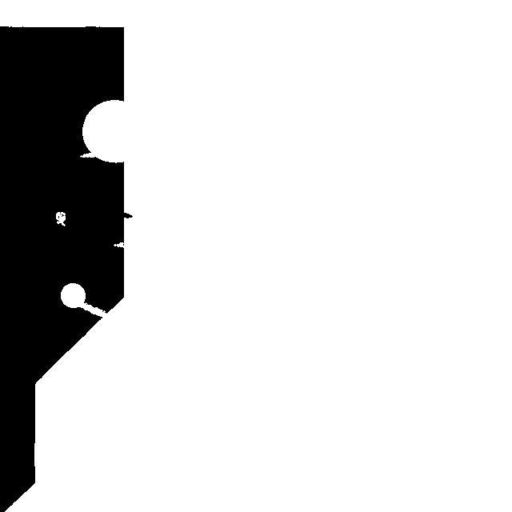mousebite: (106, 234, 136, 257), (72, 145, 104, 165)
open: (63, 292, 114, 324)
pin-hole: (48, 204, 73, 234)
spur: (111, 205, 140, 226)
